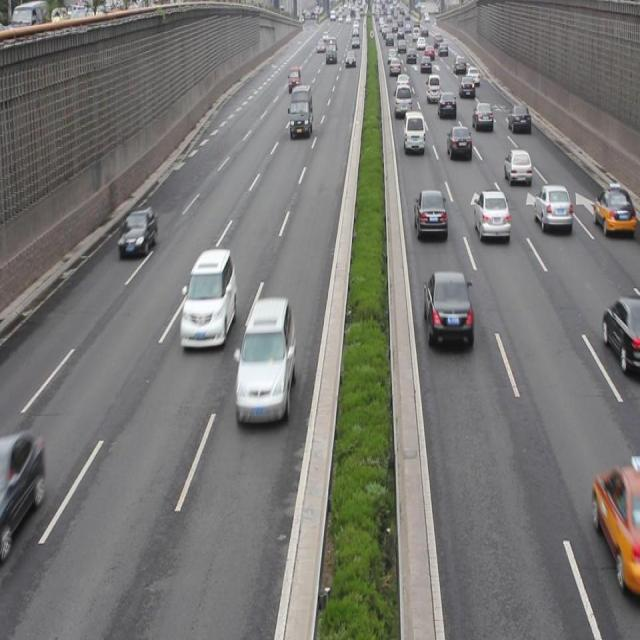car: (237, 298, 291, 427), (590, 460, 640, 594), (180, 249, 237, 355), (422, 269, 474, 351), (601, 298, 640, 372), (592, 184, 631, 237), (117, 206, 157, 256), (472, 191, 509, 244), (413, 187, 447, 242), (532, 186, 570, 234), (503, 149, 529, 185), (402, 112, 424, 153), (446, 125, 472, 157), (507, 105, 529, 131), (473, 104, 492, 128)
truck: (288, 84, 312, 135)
